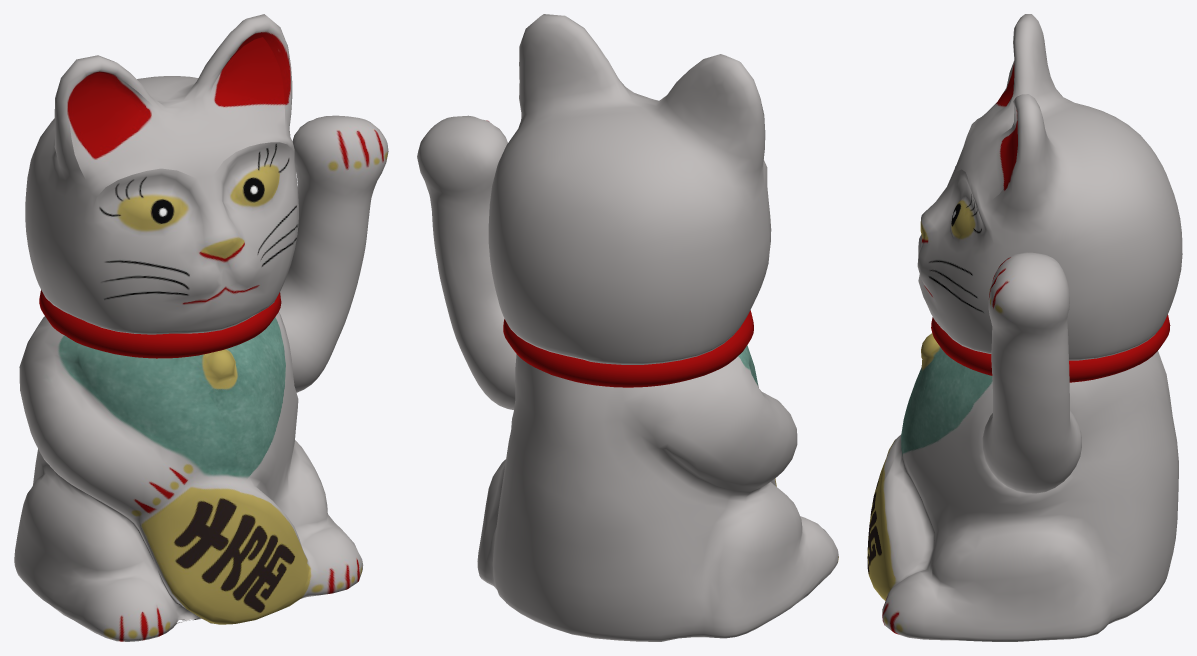
The model's file is luckycat.glb.
The picture shows the model from 3 angles, left to right: view 1: azimuth 30°, elevation 25°; view 2: azimuth 150°, elevation 25°; view 3: azimuth 270°, elevation 25°; orthographic projection. The views are drawn at different scales.
Parts seen in each view (by area): view 1: defaultMaterial.001, defaultMaterial, defaultMaterial.003, defaultMaterial.002; view 2: defaultMaterial.001, defaultMaterial, defaultMaterial.003, defaultMaterial.002; view 3: defaultMaterial.001, defaultMaterial, defaultMaterial.003, defaultMaterial.002.
Part boxes in pixels (x1,y1,x2,y2): defaultMaterial.001: (14, 312, 363, 641); defaultMaterial: (25, 14, 298, 334); defaultMaterial.003: (279, 115, 388, 392); defaultMaterial.002: (39, 290, 281, 358); defaultMaterial.001: (477, 345, 838, 641); defaultMaterial: (488, 14, 771, 364); defaultMaterial.003: (417, 115, 516, 409); defaultMaterial.002: (503, 310, 753, 387); defaultMaterial.001: (867, 333, 1178, 641); defaultMaterial: (917, 14, 1182, 360); defaultMaterial.003: (982, 252, 1081, 493); defaultMaterial.002: (931, 314, 1170, 382).
Size of the model in its own units: 1.38 by 2 by 1.1.
1 material, 1 textured.
